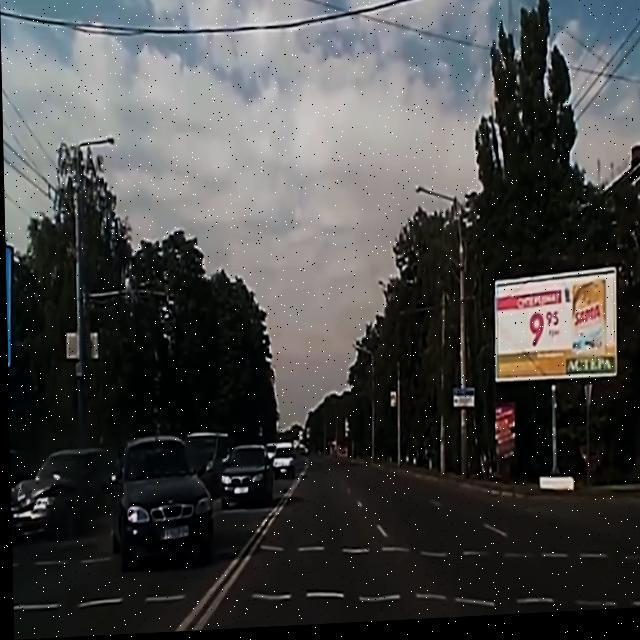multiple_accident: (8, 387, 233, 582)
normal: (208, 395, 285, 538)
